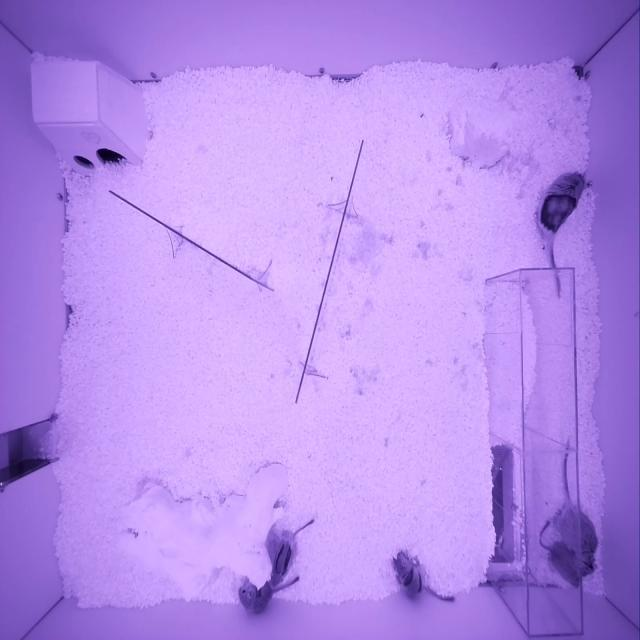adult_back: (536, 170, 584, 238)
adult_front: (554, 503, 598, 573)
pup_fluffy: (550, 542, 579, 588)
pup_h_stripe: (394, 553, 424, 596)
pup_spotted: (238, 581, 272, 613)
pup_v_stripe: (271, 540, 294, 587)
